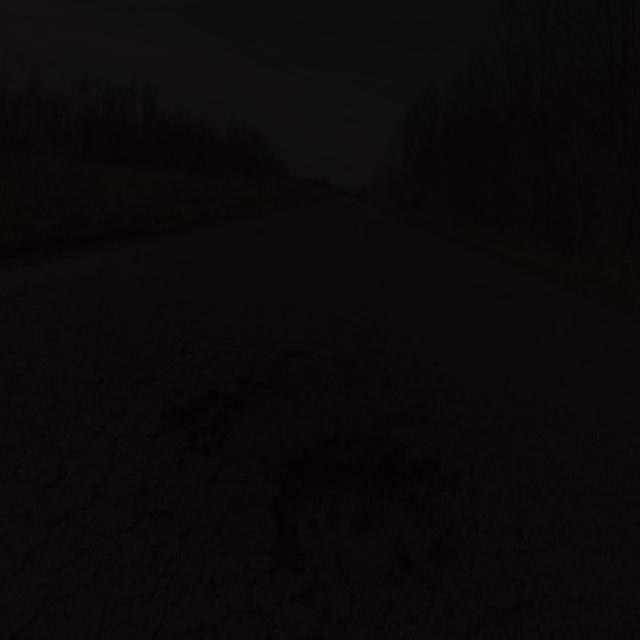Pothole: (274, 438, 465, 600)
